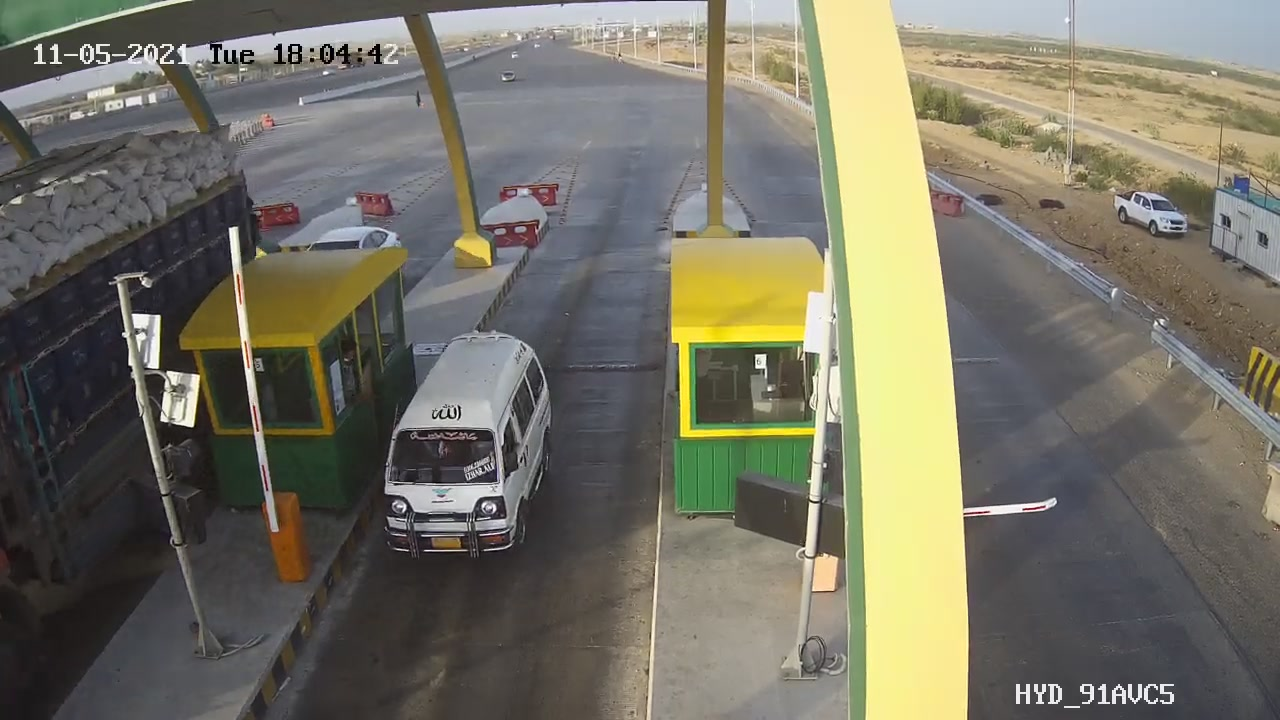F1: (359, 321, 582, 579)
